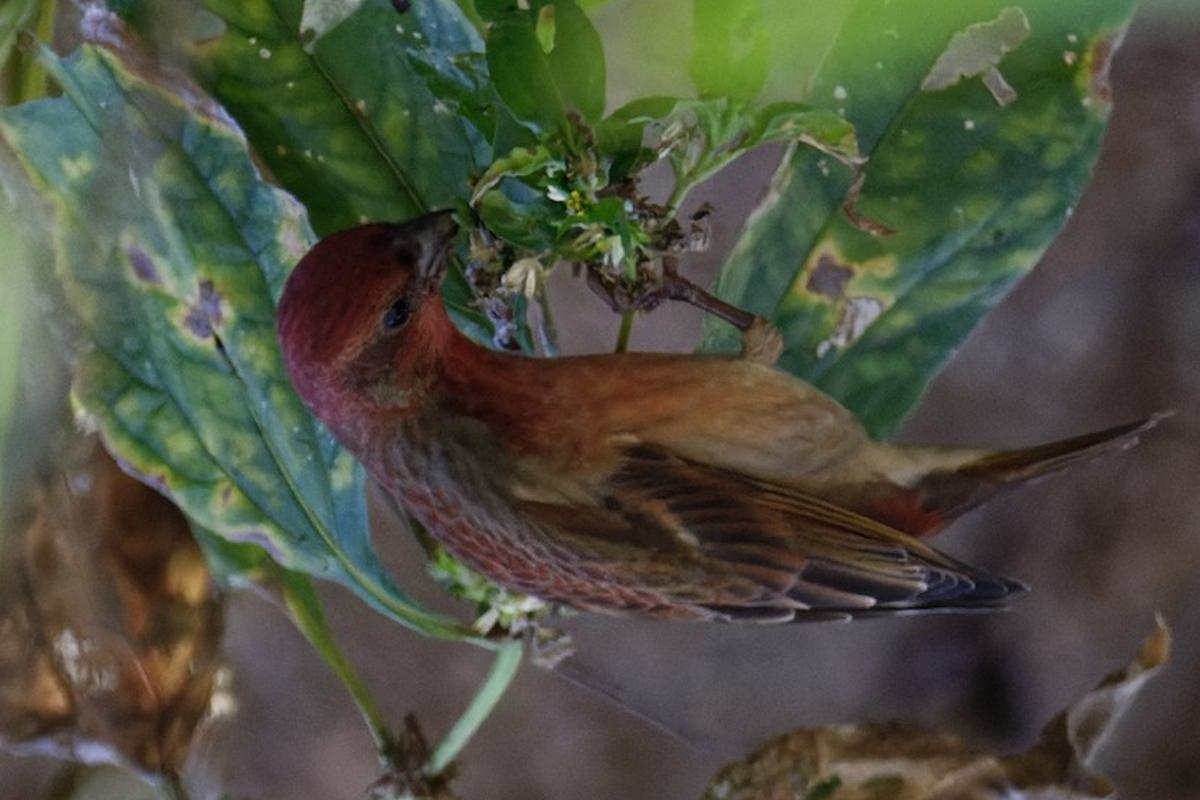rosefinch: (274, 182, 1011, 683)
